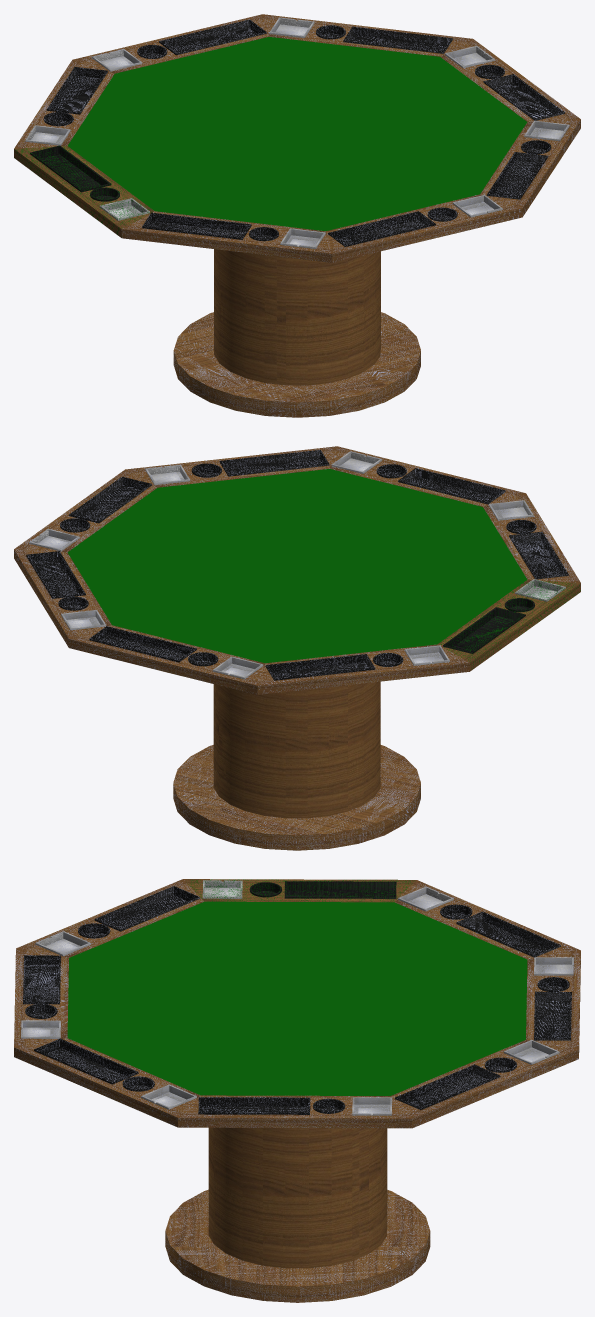
3 renders of one model, top to bottom at view 1: azimuth 30°, elevation 25°; view 2: azimuth 150°, elevation 25°; view 3: azimuth 270°, elevation 25°, orthographic. The views are drawn at different scales.
Parts seen in each view (by area): view 1: SketchUp (×3), group_7 (×3), group_0 (×3), group_6 (×3), group_1 (×3), group_3 (×3), group_4 (×3), group_2 (×3), group_5 (×3); view 2: SketchUp (×3), group_5 (×3), group_4 (×3), group_6 (×3), group_3 (×3), group_1 (×3), group_0 (×3), group_2 (×3), group_7 (×3); view 3: SketchUp (×3), group_2 (×3), group_3 (×3), group_1 (×3), group_6 (×3), group_7 (×3), group_5 (×3), group_4 (×3), group_0 (×3).
Boxes of the visible parts, bbox=[...] form: SketchUp (×3): bbox=[67, 37, 527, 417]; group_7 (×3): bbox=[121, 211, 332, 262]; group_0 (×3): bbox=[326, 194, 522, 262]; group_6 (×3): bbox=[14, 145, 154, 237]; group_1 (×3): bbox=[480, 119, 580, 216]; group_3 (×3): bbox=[262, 14, 472, 56]; group_4 (×3): bbox=[73, 14, 268, 73]; group_2 (×3): bbox=[440, 39, 580, 121]; group_5 (×3): bbox=[14, 60, 114, 148]; SketchUp (×3): bbox=[67, 469, 527, 850]; group_5 (×3): bbox=[257, 644, 469, 694]; group_4 (×3): bbox=[69, 625, 264, 694]; group_6 (×3): bbox=[437, 579, 580, 671]; group_3 (×3): bbox=[14, 549, 111, 647]; group_1 (×3): bbox=[125, 446, 336, 487]; group_0 (×3): bbox=[330, 446, 525, 506]; group_2 (×3): bbox=[14, 469, 157, 552]; group_7 (×3): bbox=[483, 493, 580, 582]; SketchUp (×3): bbox=[67, 901, 527, 1302]; group_2 (×3): bbox=[178, 1095, 411, 1128]; group_3 (×3): bbox=[391, 1040, 578, 1128]; group_1 (×3): bbox=[14, 1038, 200, 1127]; group_6 (×3): bbox=[183, 879, 416, 902]; group_7 (×3): bbox=[16, 879, 203, 957]; group_5 (×3): bbox=[394, 880, 580, 959]; group_4 (×3): bbox=[526, 950, 580, 1052]; group_0 (×3): bbox=[14, 948, 68, 1047].
Bounding box in the file's own units: 61.99 × 61.99 × 30.12.
6 materials, 3 textured.
